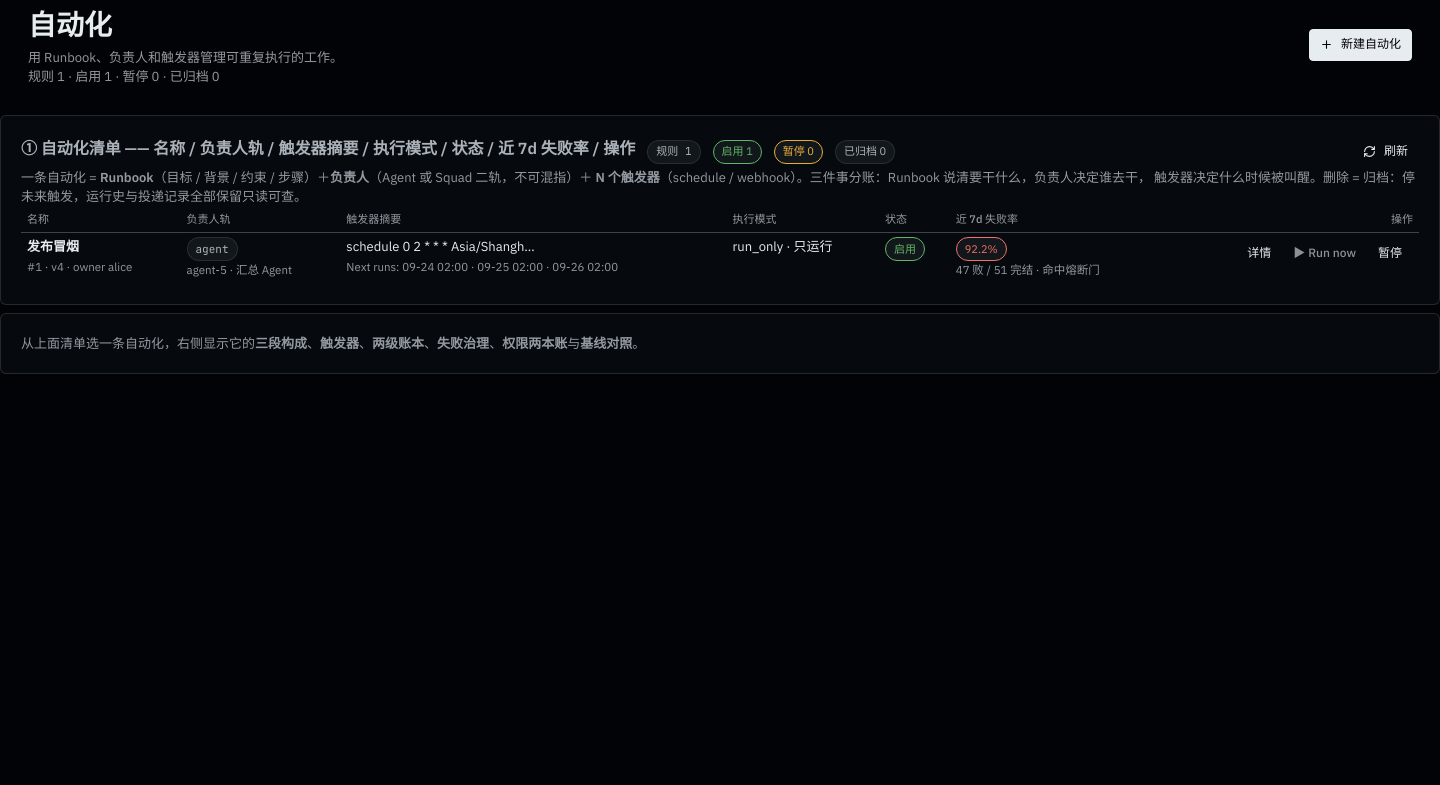
Scenario: 自动化中心 ④ webhook 触发器 › 遮蔽 token / 载荷字节 / 六步推断 / 响应语义 都在页面上
Expected: the text "发布冒烟" is shown, x1=27 y1=238 x2=79 y2=255
Click the button with aria-label "选中 发布冒烟" at (1259, 253), box x1=1236 y1=237 x2=1282 y2=269
(page scrolled)
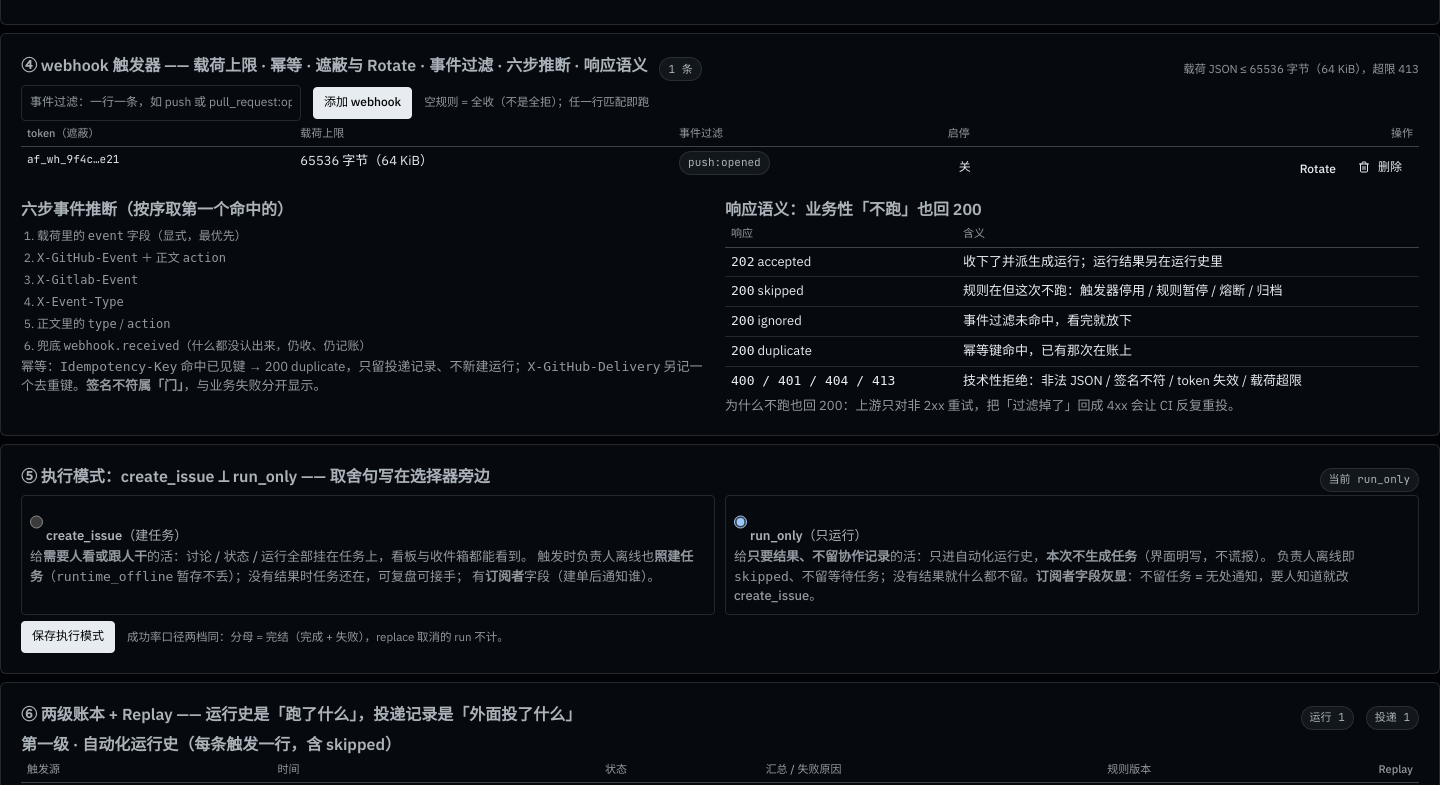
Now the text "af_wh_9f4c…e21" is shown, box x1=21 y1=147 x2=294 y2=190
Now the text "65536 字节（64 KiB）" is shown, box x1=294 y1=147 x2=673 y2=190
Now the text "push:opened" is shown, box x1=679 y1=151 x2=770 y2=175
